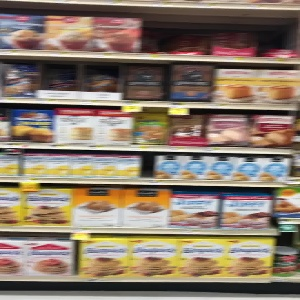void: (143, 6, 209, 55)
